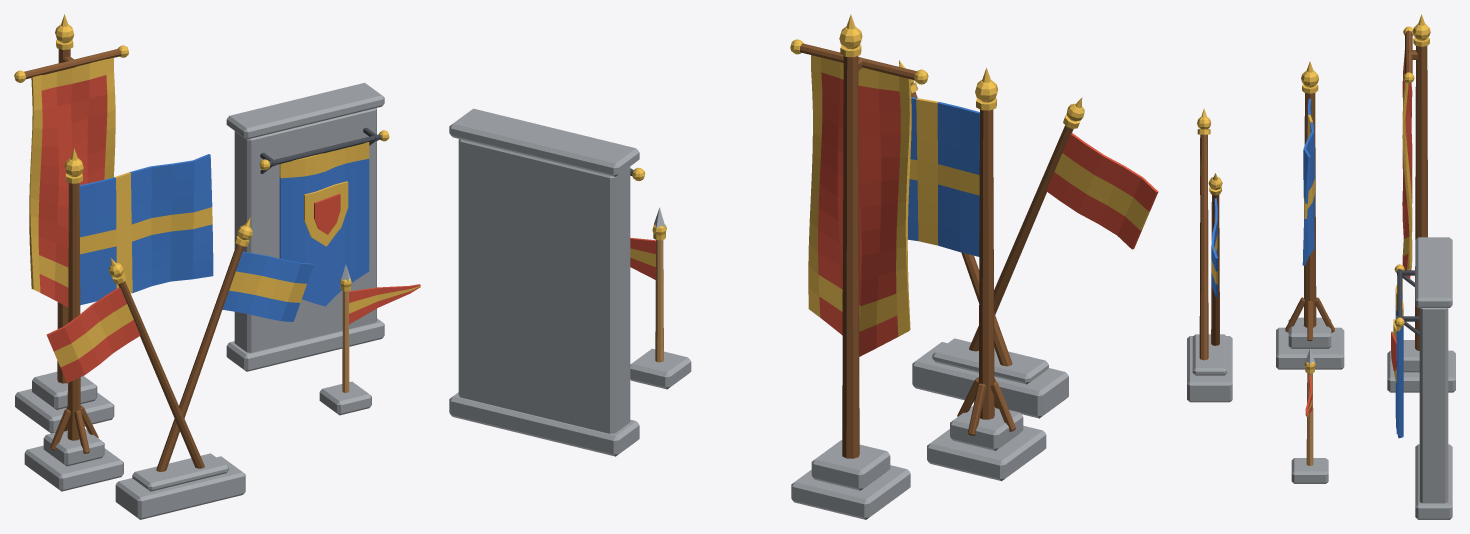
Rendered from medieval-banners-set.glb.
3 renders of one model, left to right at view 1: azimuth 30°, elevation 25°; view 2: azimuth 150°, elevation 25°; view 3: azimuth 270°, elevation 25°, orthographic. The views are drawn at different scales.
Visible parts, largest first — view 1: Banner_Wall, Flag_SquareStand, Flags_Crossed, Banner_TallPole, Pennant_Spear; view 2: Banner_Wall, Banner_TallPole, Flag_SquareStand, Flags_Crossed, Pennant_Spear; view 3: Banner_Wall, Banner_TallPole, Flag_SquareStand, Flags_Crossed, Pennant_Spear.
Part boxes in pixels (x1,y1,x2,y2): Banner_Wall: (226, 82, 389, 371); Flag_SquareStand: (24, 148, 213, 491); Flags_Crossed: (46, 217, 313, 519); Banner_TallPole: (14, 14, 128, 433); Pennant_Spear: (319, 264, 420, 415); Banner_Wall: (449, 108, 645, 456); Banner_TallPole: (790, 14, 928, 519); Flag_SquareStand: (907, 68, 1046, 481); Flags_Crossed: (899, 60, 1158, 418); Pennant_Spear: (630, 207, 691, 389); Banner_Wall: (1391, 237, 1452, 519); Banner_TallPole: (1387, 14, 1455, 392); Flag_SquareStand: (1276, 61, 1344, 369); Flags_Crossed: (1187, 108, 1232, 402); Pennant_Spear: (1291, 348, 1328, 483).
Bounding box in the file's own units: 16.8 × 14.14 × 9.43.
